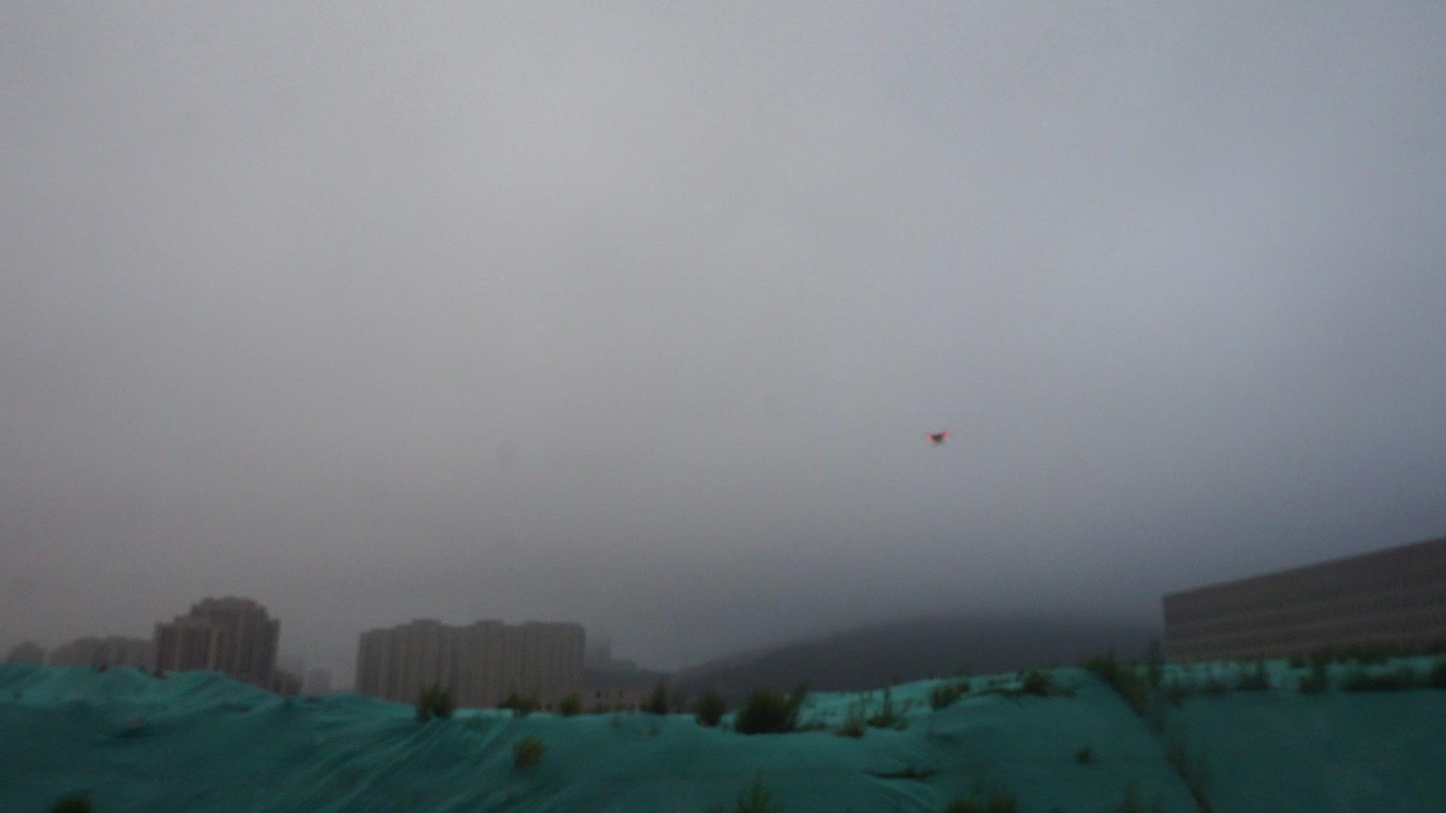UAV: (926, 431, 950, 445)
